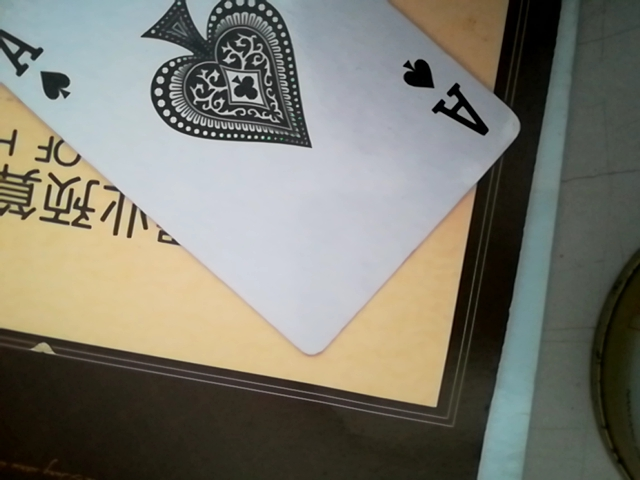ht a: (0, 4, 543, 362)
